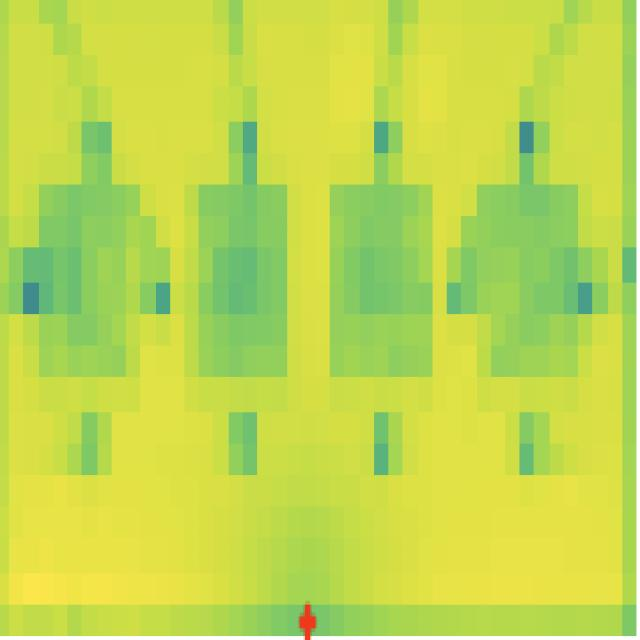Concrete: (20, 139, 150, 487)
Glass: (467, 136, 586, 408)
Metal: (171, 146, 311, 460)
Wood: (326, 155, 441, 474)
